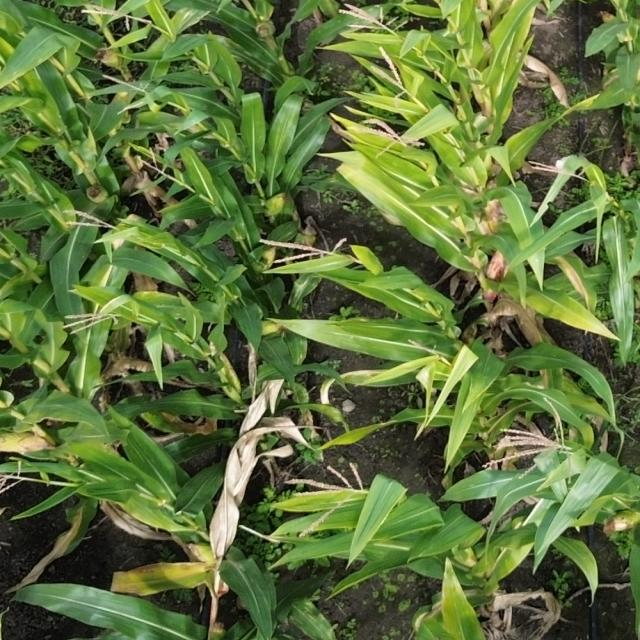gray-leaf-spot: (290, 601, 335, 640), (290, 275, 321, 308), (288, 331, 314, 363)
northern-leaf-blight: (549, 250, 595, 295), (344, 360, 411, 385), (56, 508, 88, 551)
southern-leaf-blight: (314, 16, 348, 36)
